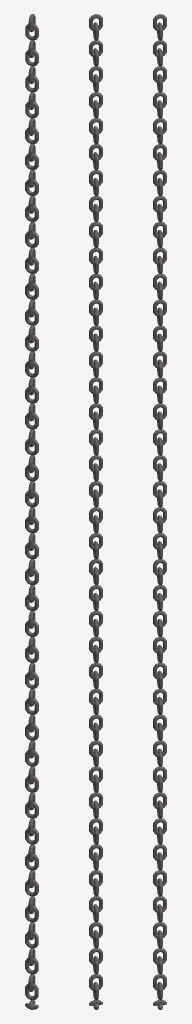
Rendered from SM_ChainLink_01_Splines_10.fbx.
3 views of the same model, side by side, from view 1: azimuth 30°, elevation 25°; view 2: azimuth 150°, elevation 25°; view 3: azimuth 330°, elevation 25° (orthographic).
Parts seen in each view (by area): view 1: SM_ChainLink_01_Splines_10; view 2: SM_ChainLink_01_Splines_10; view 3: SM_ChainLink_01_Splines_10.
Boxes of the visible parts, bbox=[...] form: SM_ChainLink_01_Splines_10: bbox=[25, 14, 38, 1009]; SM_ChainLink_01_Splines_10: bbox=[89, 14, 102, 1009]; SM_ChainLink_01_Splines_10: bbox=[153, 14, 166, 1009].
Bounding box in the file's own units: 3.19 × 3.4 × 303.
